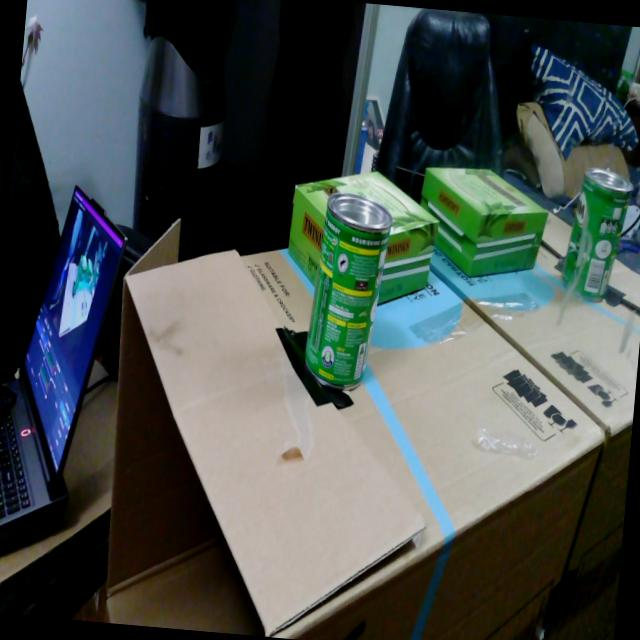nestle_milo_tin: (304, 193, 391, 390)
twinings_greentea_box: (288, 171, 439, 303)
